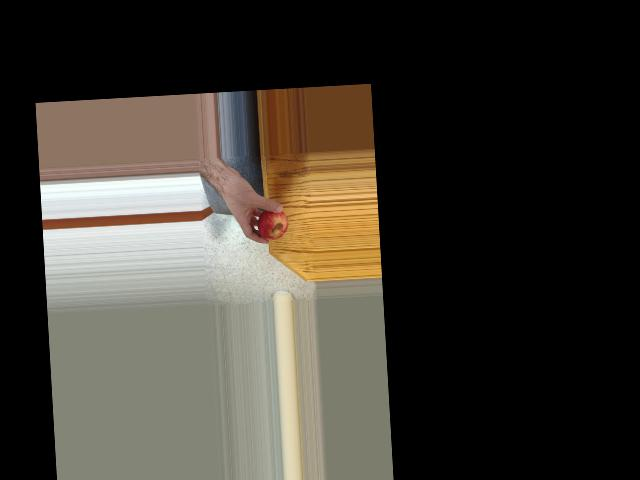apple: (254, 204, 290, 241)
